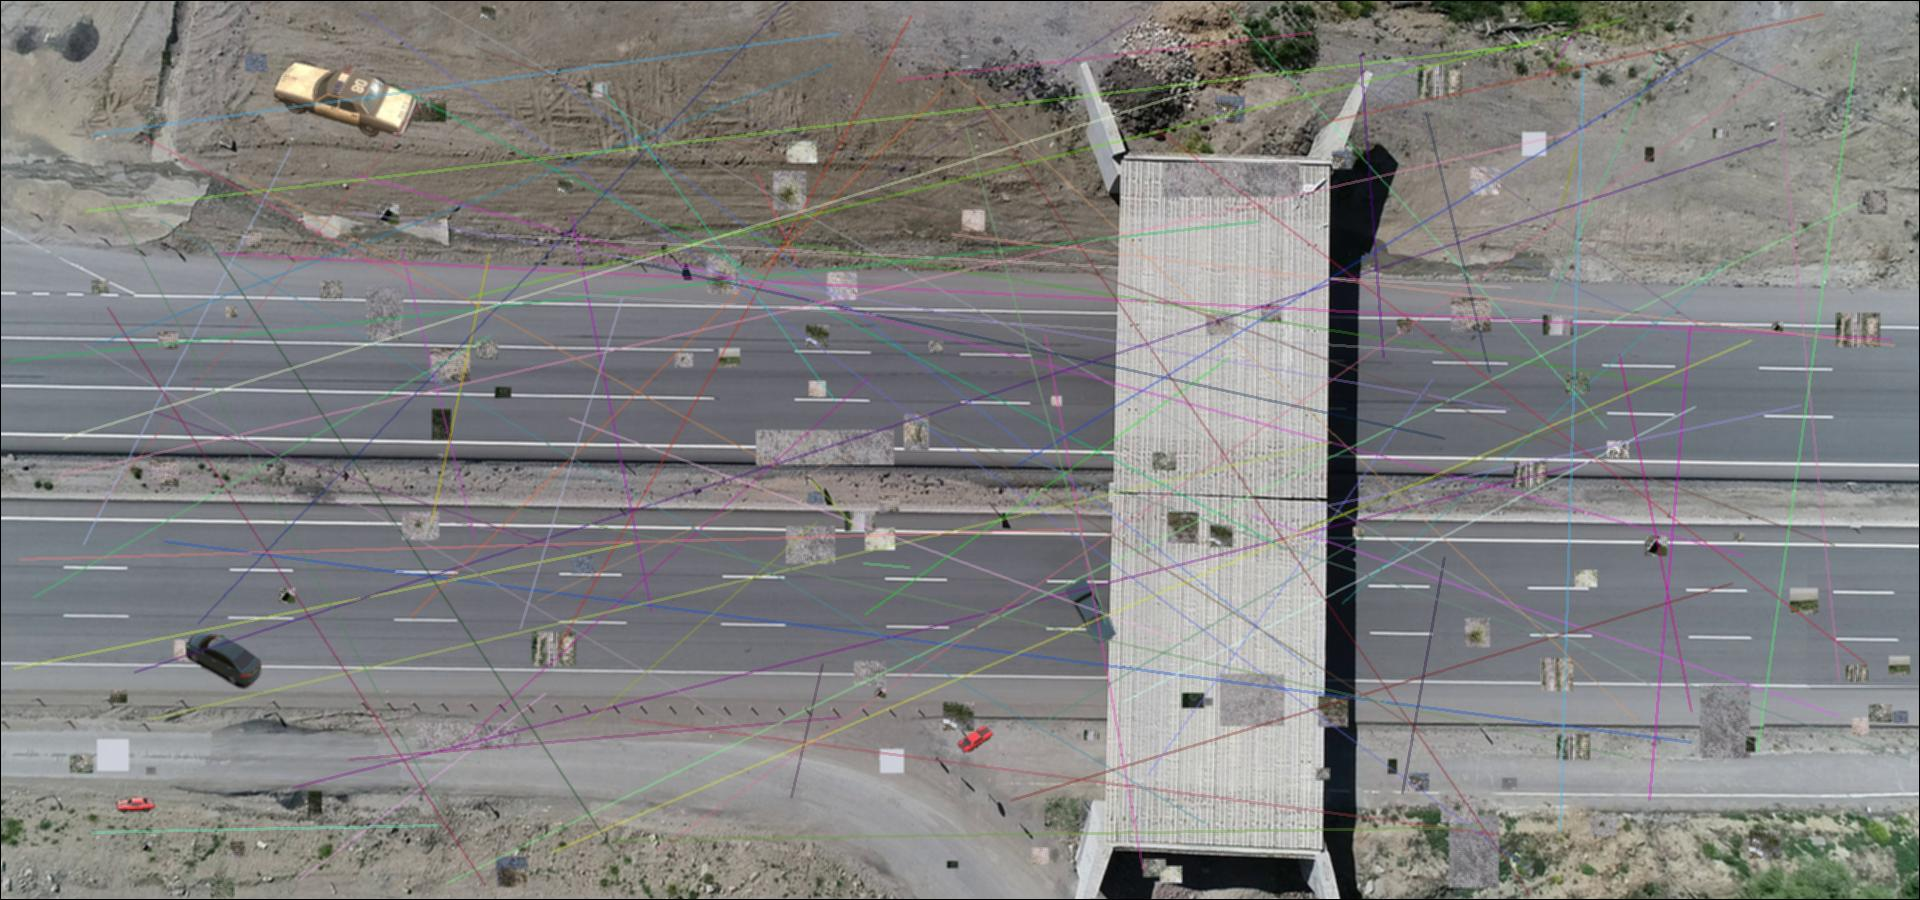arac: (274, 55, 419, 138), (186, 631, 263, 689), (1067, 578, 1117, 644), (958, 725, 994, 753), (115, 797, 156, 813)
